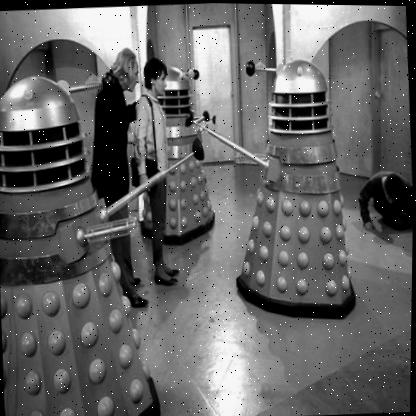dalek: (212, 30, 367, 327), (0, 59, 110, 416), (128, 56, 223, 253)
person: (84, 30, 158, 312), (129, 55, 179, 298), (349, 161, 414, 246)
